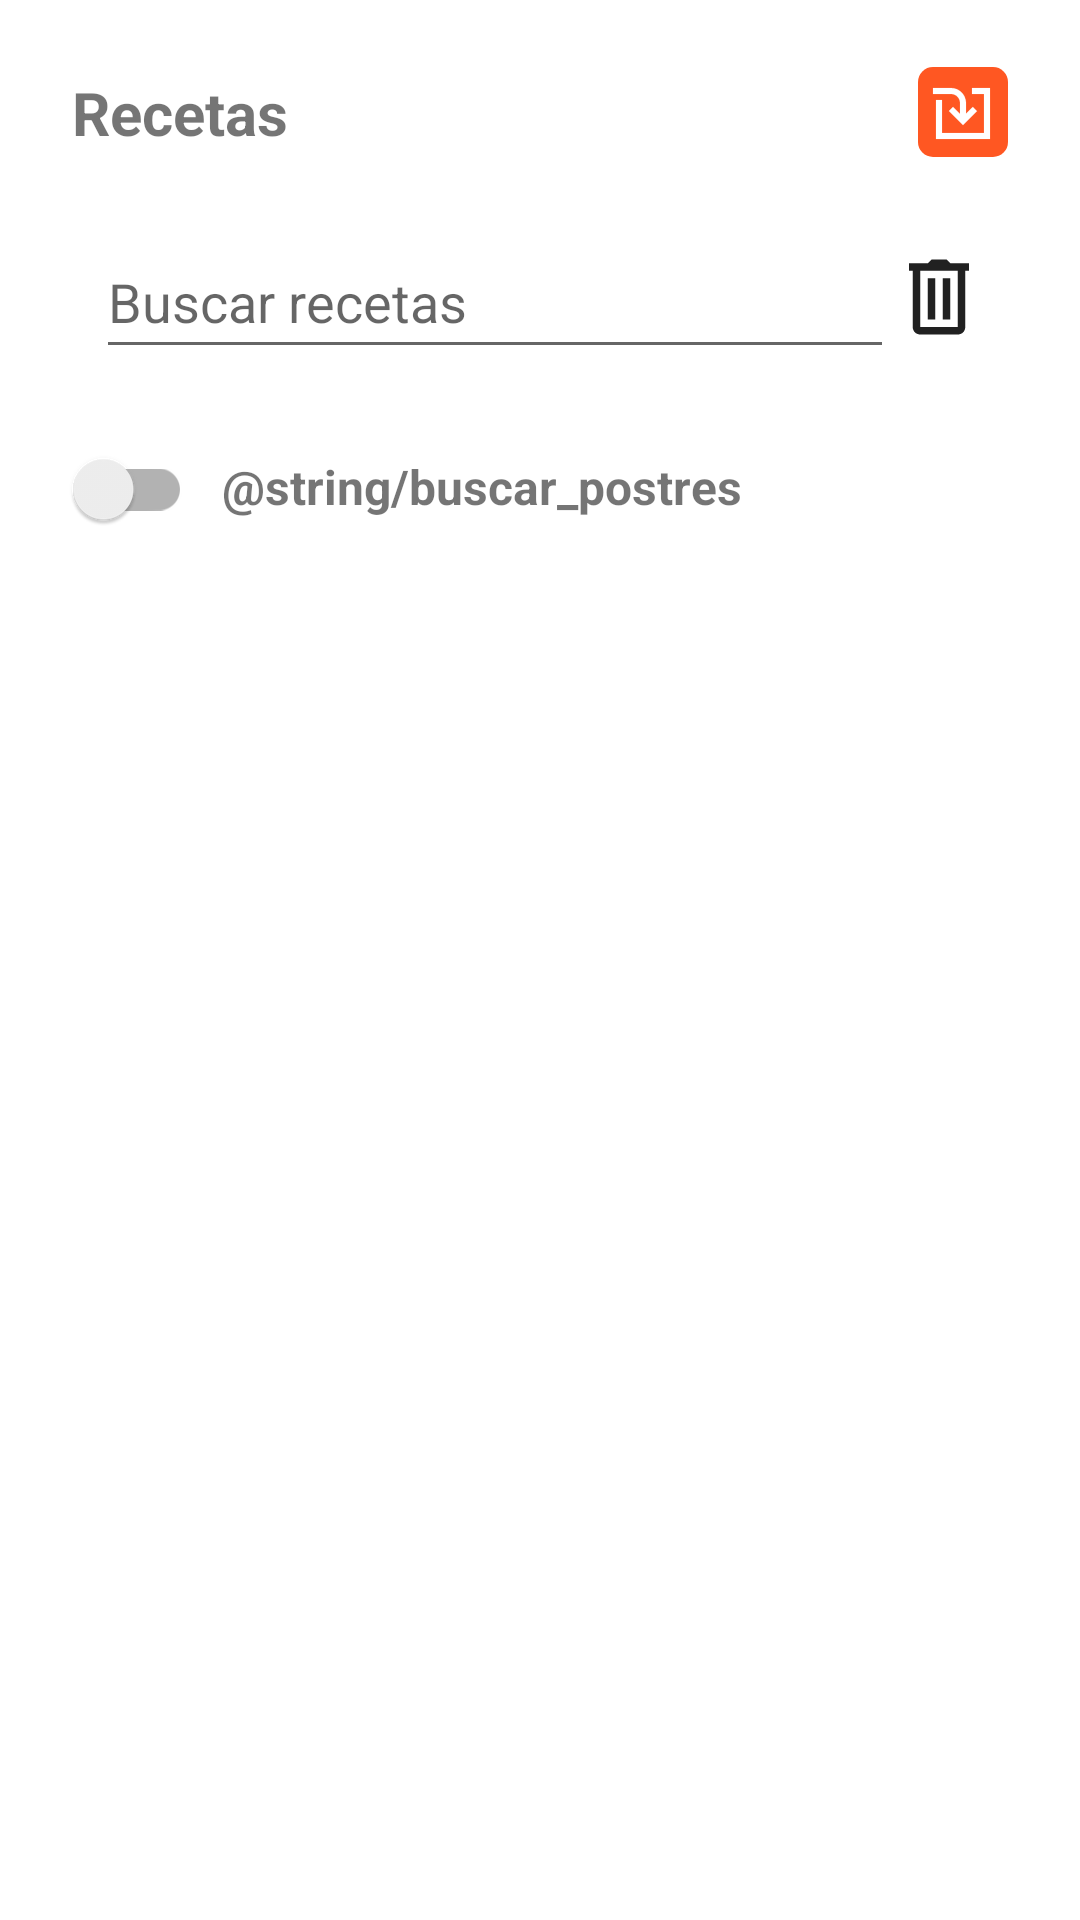

Icon click points for this 1080px×1920px phone screenshot, format (x,y):
Importar: (963,112)
